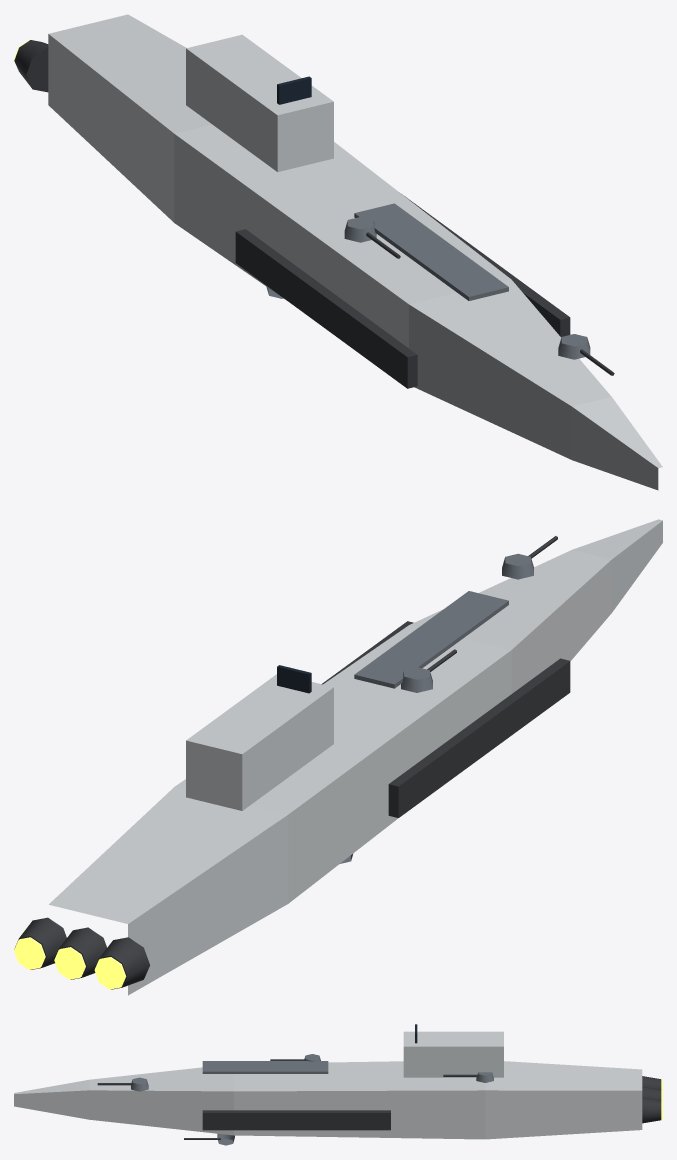
The model's file is space_ship_destroyer_mk2.glb.
3 views of the same model, one above another, from view 1: azimuth 30°, elevation 25°; view 2: azimuth 150°, elevation 25°; view 3: azimuth 270°, elevation 25° (orthographic). The views are drawn at different scales.
Parts seen in each view (by area): view 1: body, engine_0, turret_0, turret_2; view 2: body, engine_0, engine_1, engine_2, turret_0, turret_2; view 3: body, engine_2, turret_0, turret_4, turret_1, engine_0, engine_1.
Part boxes in pixels (bbox=[...]): body: bbox=[48, 14, 662, 490]; engine_0: bbox=[14, 40, 48, 92]; turret_0: bbox=[558, 334, 614, 375]; turret_2: bbox=[344, 217, 400, 258]; body: bbox=[49, 519, 662, 995]; engine_0: bbox=[94, 937, 149, 989]; engine_1: bbox=[54, 927, 106, 979]; engine_2: bbox=[14, 917, 66, 969]; turret_0: bbox=[502, 536, 557, 579]; turret_2: bbox=[401, 649, 456, 692]; body: bbox=[14, 1024, 642, 1139]; engine_2: bbox=[642, 1097, 662, 1123]; turret_0: bbox=[97, 1077, 148, 1091]; turret_4: bbox=[443, 1072, 493, 1082]; turret_1: bbox=[184, 1133, 234, 1145]; engine_0: bbox=[642, 1076, 662, 1090]; engine_1: bbox=[642, 1087, 662, 1101].
Size of what is drawn, in the model's own units: 8.1 by 9.17 by 50.9.
